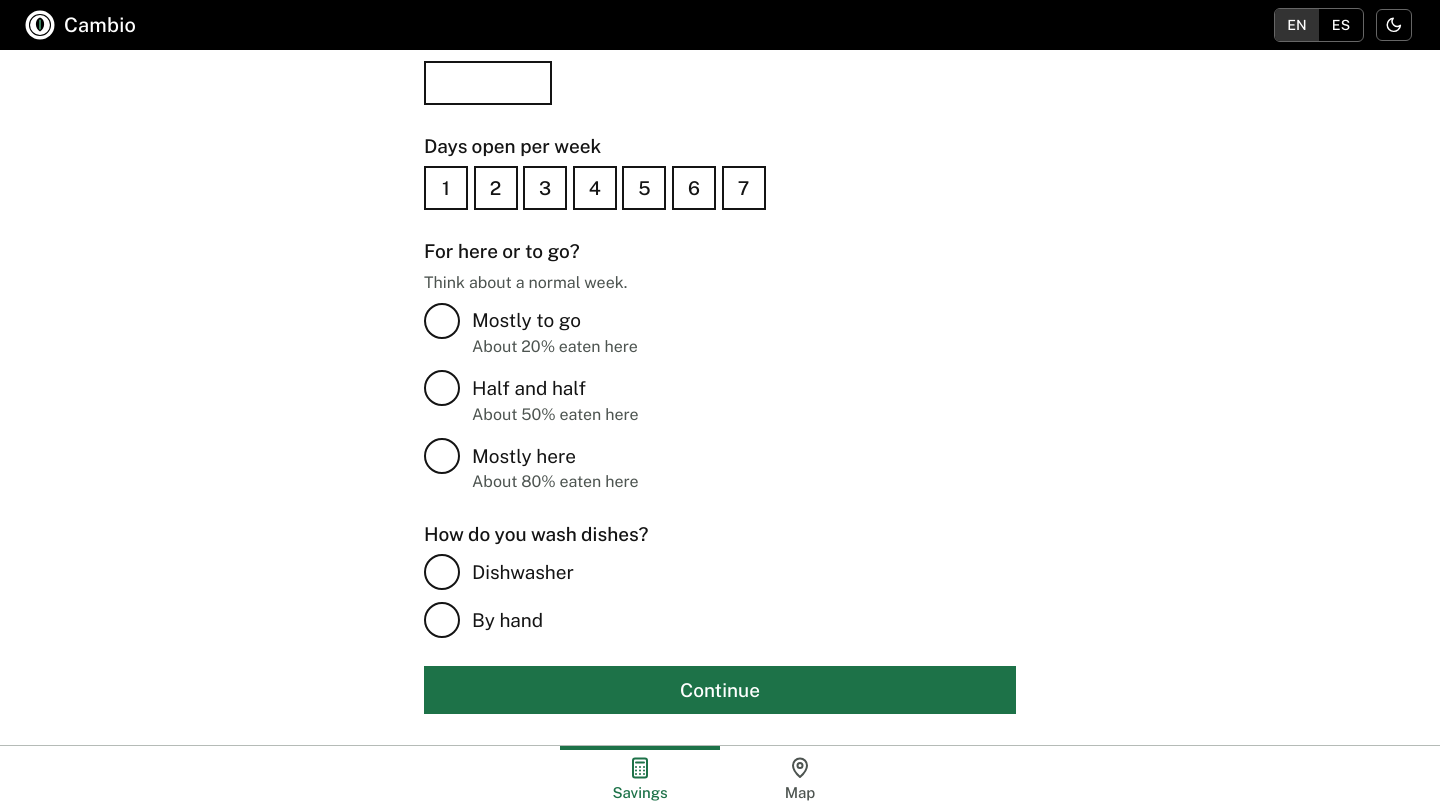
Test: Savings flow, step 1 › lists every missing answer when Continue is pressed too early
(page scrolled)
Click the button "Continue". click: (720,690)
box: [424, 666, 1016, 714]
(page scrolled)
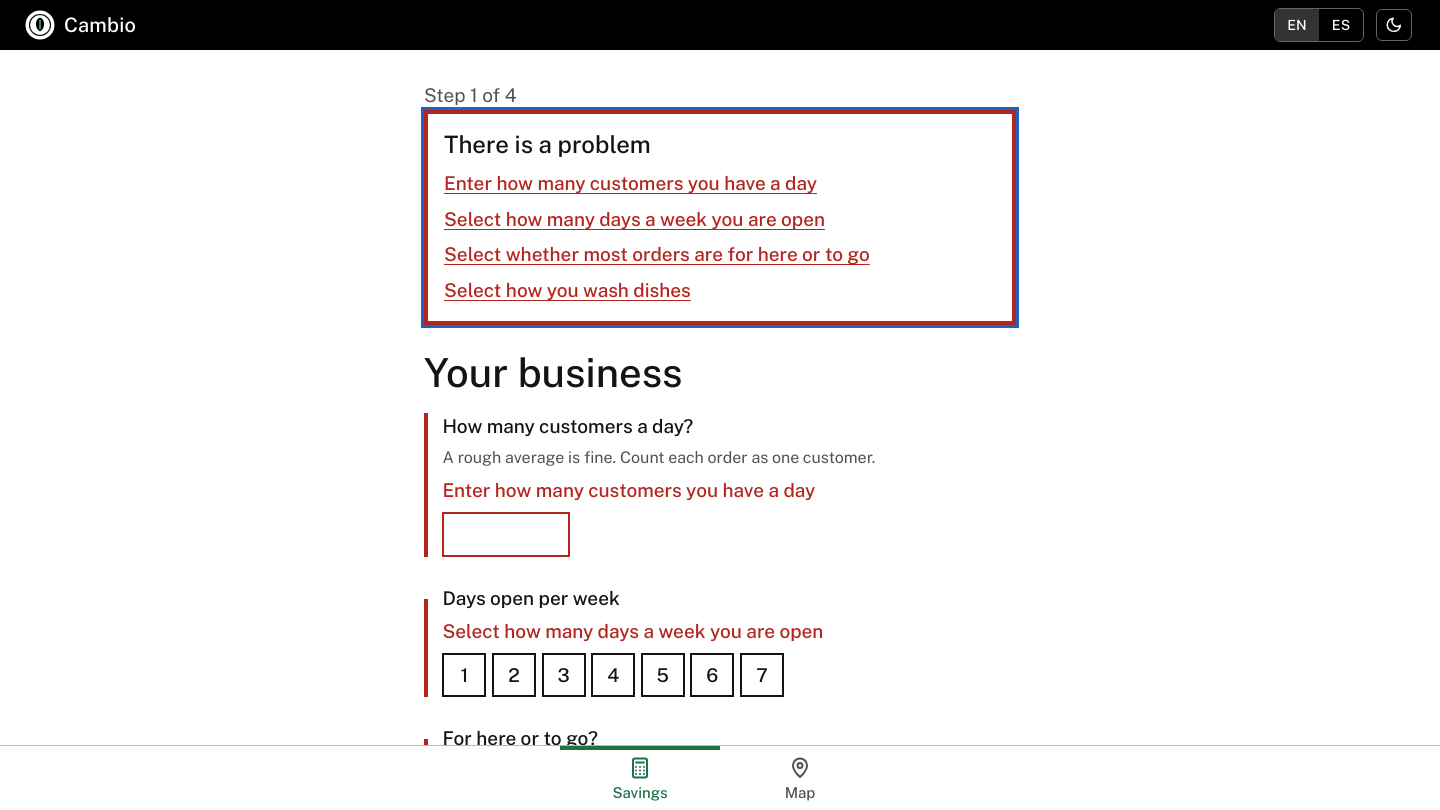
Now the message shows "There is a problem", box [444, 130, 651, 158]
Now the message shows "Enter how many customers you have a day", box [444, 172, 817, 194]
Now the message shows "Select how many days a week you are open", box [444, 208, 825, 230]
